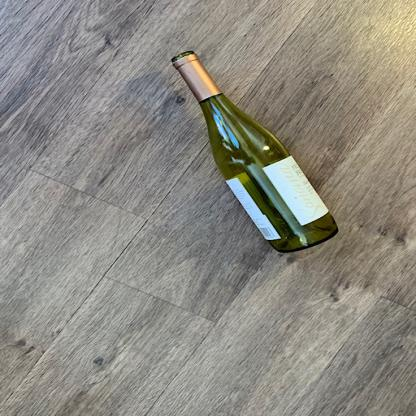trash: (166, 49, 343, 256)
